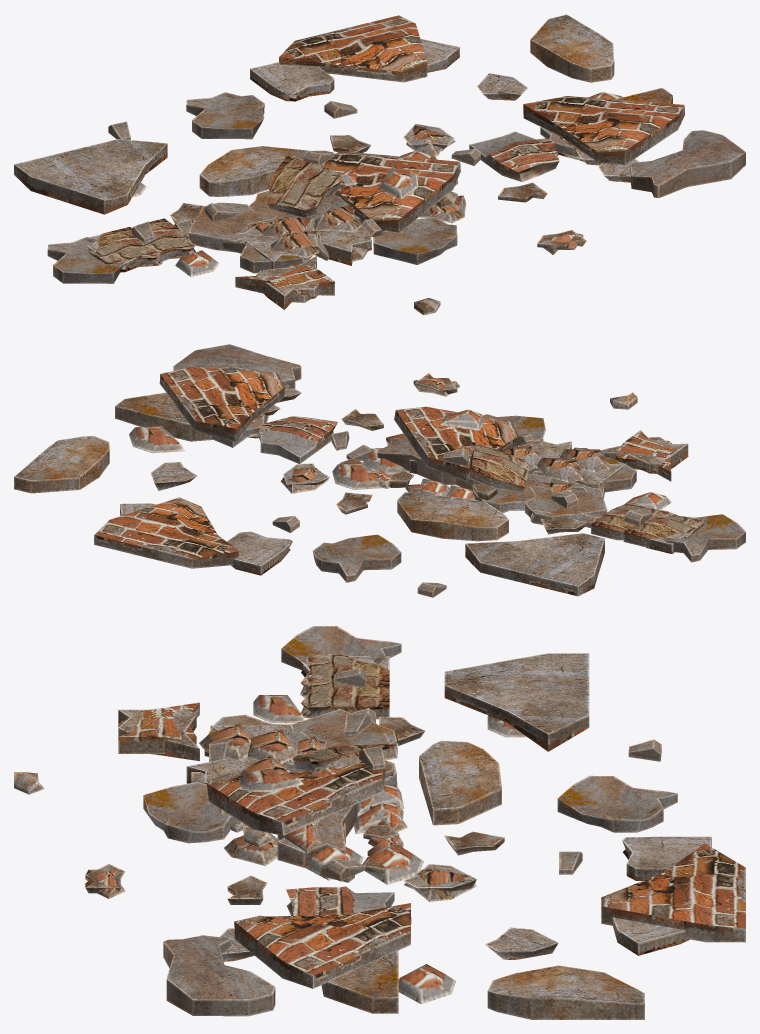
Rendered from plaster.fbx.
3 views of the same model, one above another, from view 1: azimuth 30°, elevation 25°; view 2: azimuth 150°, elevation 25°; view 3: azimuth 270°, elevation 25° (orthographic). The views are drawn at different scales.
Visible parts, largest first — view 1: Plaster_Fallen_04_LOD0, Plaster_Fallen__02_LOD0, Plaster_Fallen_01_LOD0, Plaster_Fallen__03_LOD0; view 2: Plaster_Fallen_04_LOD0, Plaster_Fallen__02_LOD0, Plaster_Fallen_01_LOD0, Plaster_Fallen__03_LOD0; view 3: Plaster_Fallen_04_LOD0, Plaster_Fallen_01_LOD0, Plaster_Fallen__02_LOD0, Plaster_Fallen__03_LOD0.
Boxes of the visible parts, x1=… form: Plaster_Fallen_04_LOD0: x1=14, y1=39, x2=745, y2=309; Plaster_Fallen__02_LOD0: x1=47, y1=87, x2=684, y2=283; Plaster_Fallen_01_LOD0: x1=88, y1=14, x2=622, y2=315; Plaster_Fallen__03_LOD0: x1=204, y1=148, x2=600, y2=273; Plaster_Fallen_04_LOD0: x1=120, y1=344, x2=701, y2=596; Plaster_Fallen__02_LOD0: x1=115, y1=367, x2=745, y2=562; Plaster_Fallen_01_LOD0: x1=14, y1=378, x2=703, y2=597; Plaster_Fallen__03_LOD0: x1=265, y1=405, x2=636, y2=521; Plaster_Fallen_04_LOD0: x1=85, y1=653, x2=711, y2=1016; Plaster_Fallen_01_LOD0: x1=14, y1=654, x2=745, y2=1019; Plaster_Fallen__02_LOD0: x1=191, y1=626, x2=411, y2=1013; Plaster_Fallen__03_LOD0: x1=186, y1=713, x2=423, y2=884.
Size of what is drawn, in the model's own units: 1.21 by 0.0965 by 0.9807.
